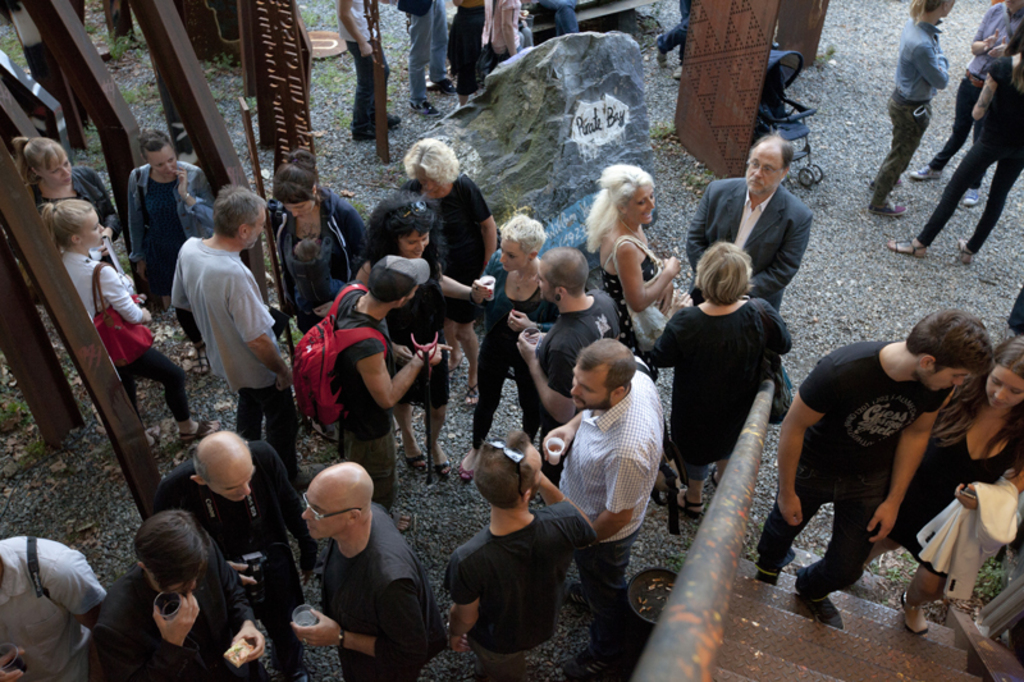Footwear: (803, 599, 852, 635), (906, 165, 938, 179), (957, 183, 977, 205), (869, 203, 905, 214)
